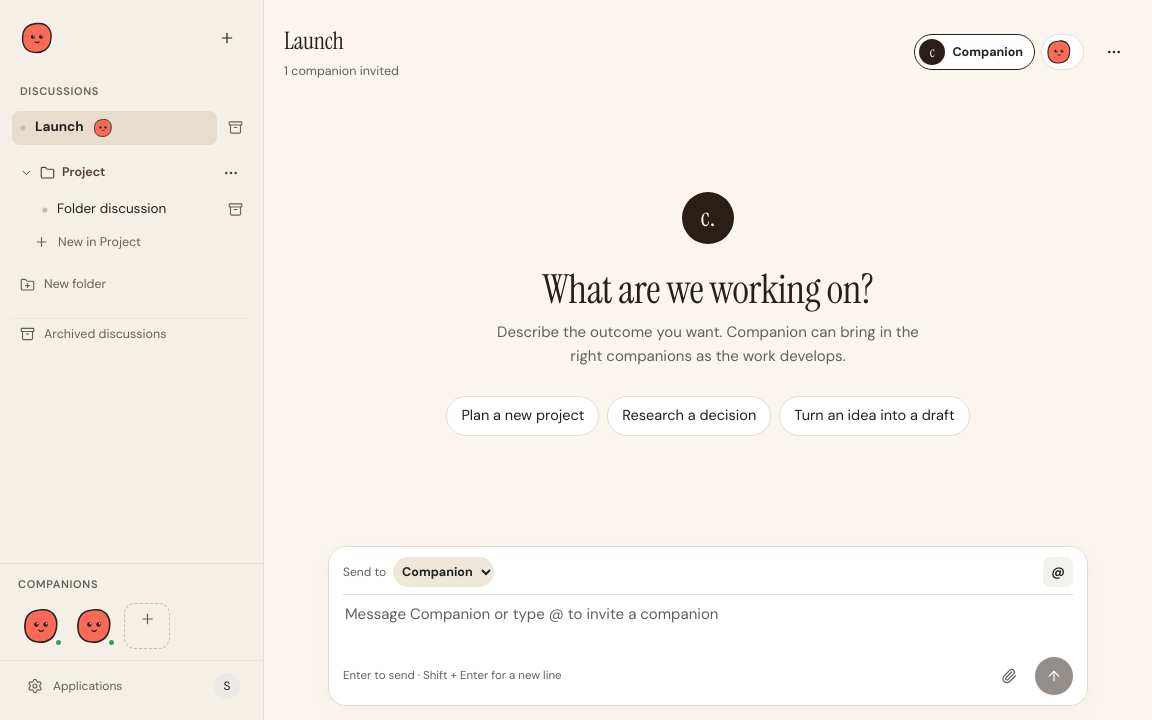
it: archives a folder discussion from the sidebar, restores it, and archives the selected discussion
What coordinates should you click on to do the following:
click the button named "Archive Folder discussion"
I would click on:
 (235, 210)
Its box is x1=219 y1=192 x2=251 y2=226.
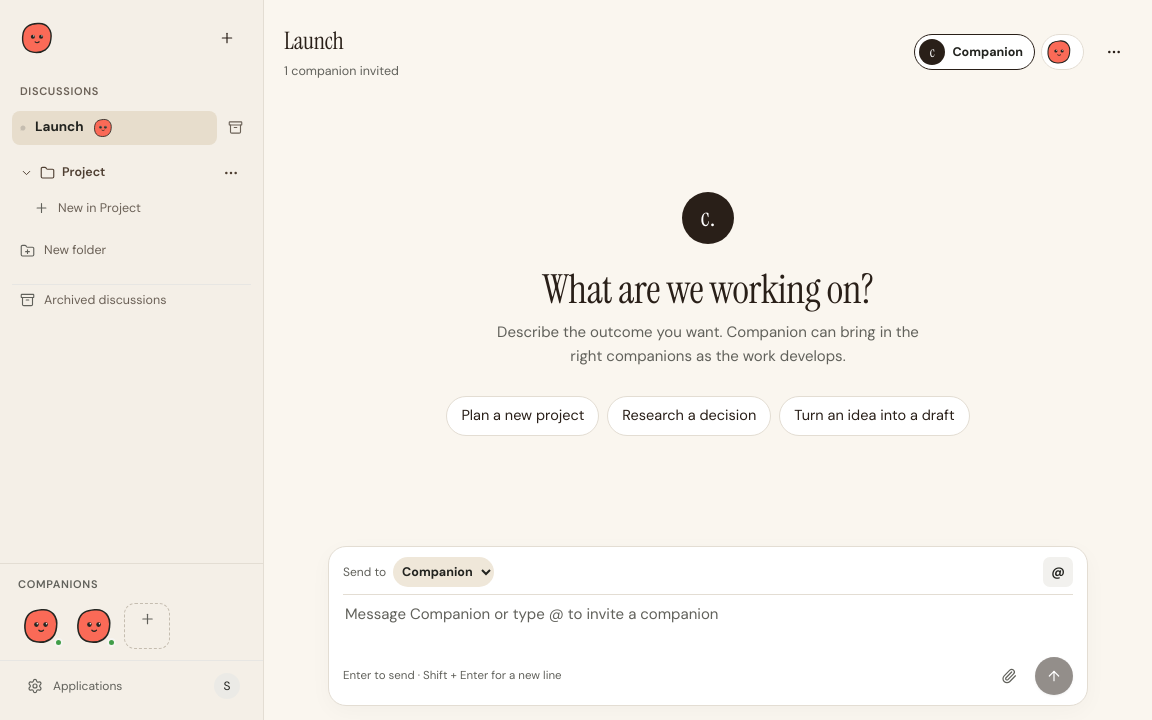
Expected: the heading "Launch" is shown, x1=284 y1=23 x2=344 y2=59
What coordinates should you click on to do the following:
click the button "Archived discussions"
I would click on:
 (132, 300)
Its box is x1=12 y1=284 x2=251 y2=316.
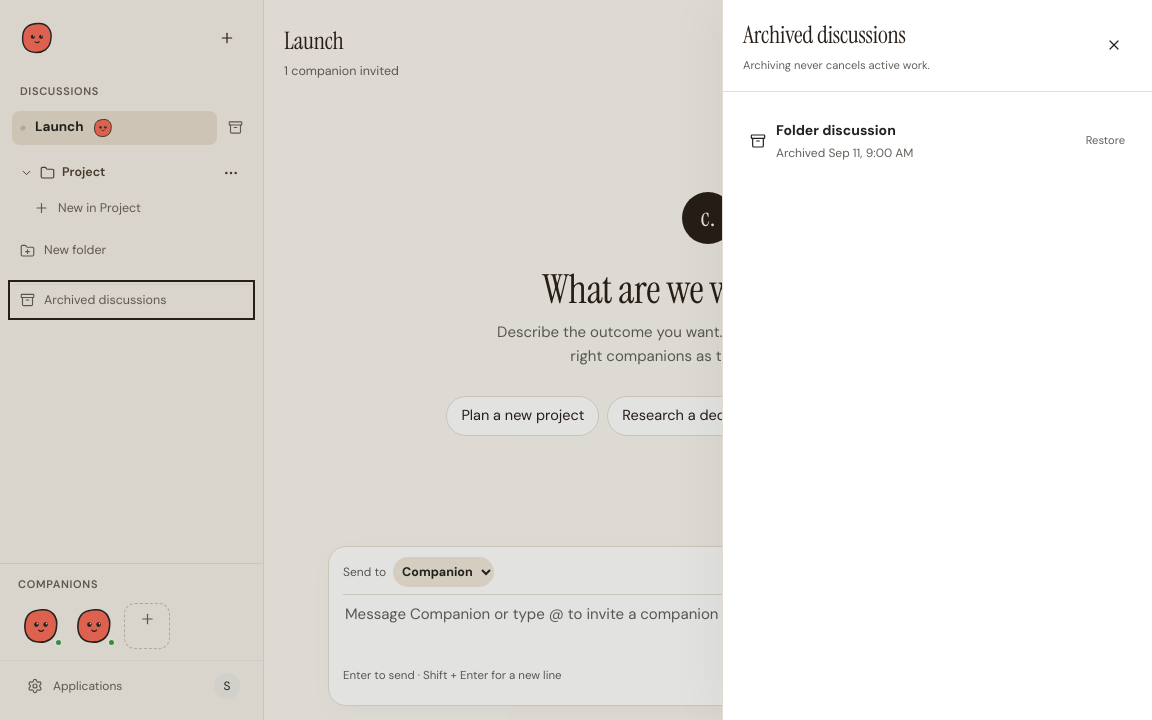
What coordinates should you click on to do the following:
click the button "Folder discussion Archived Sep 11, 9:00 AM Restore"
I would click on:
 (836, 130)
Its box is x1=741 y1=110 x2=1134 y2=172.
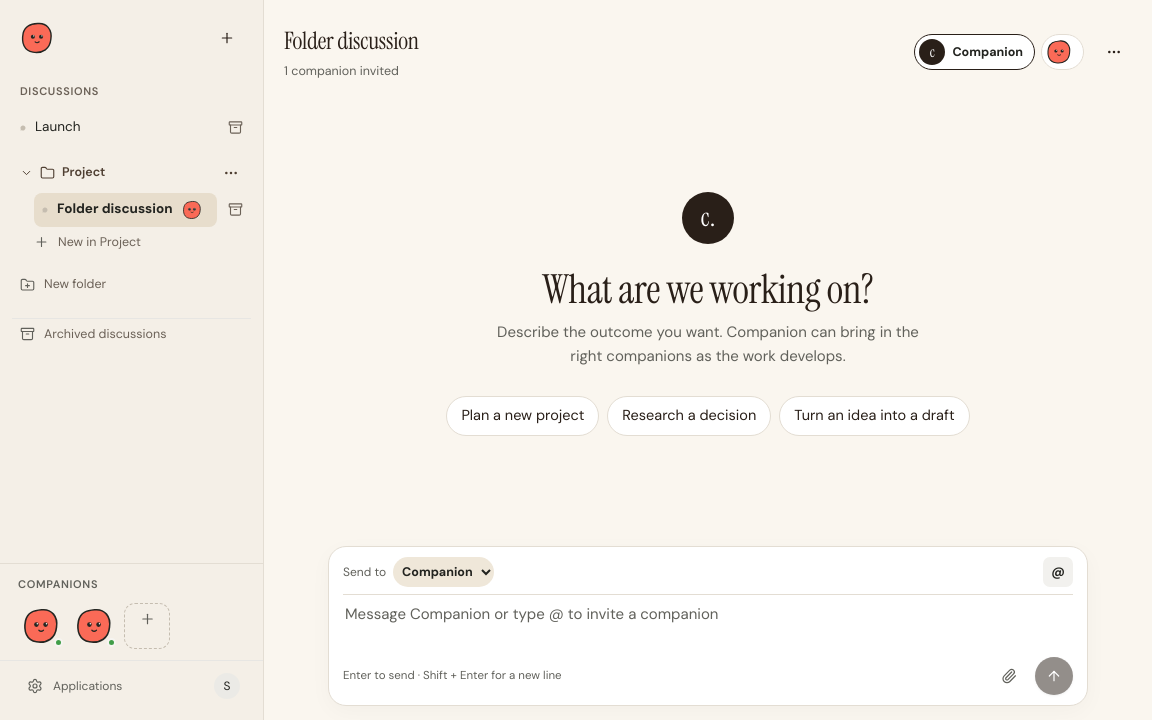
Expected: the heading "Folder discussion" is shown, x1=284 y1=23 x2=419 y2=59
What coordinates should you click on to do the following:
click the button named "Archive Folder discussion"
I would click on:
 (235, 210)
Its box is x1=219 y1=192 x2=251 y2=226.
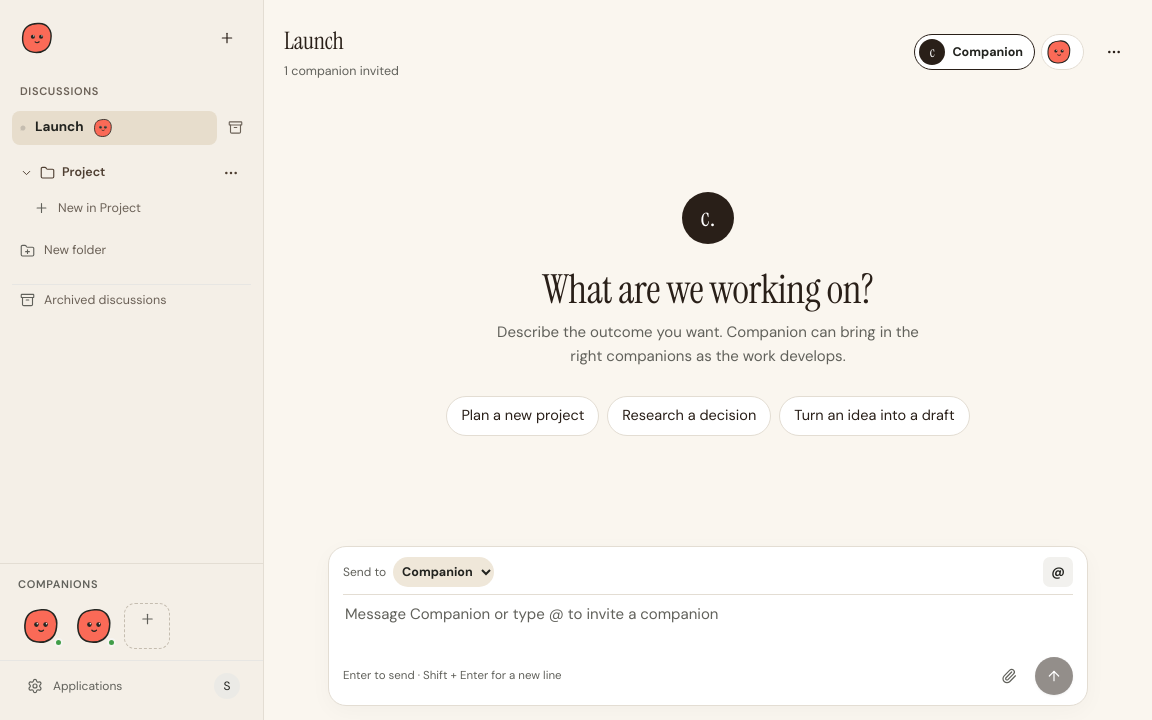
Expected: the heading "Launch" is shown, x1=284 y1=23 x2=344 y2=59
